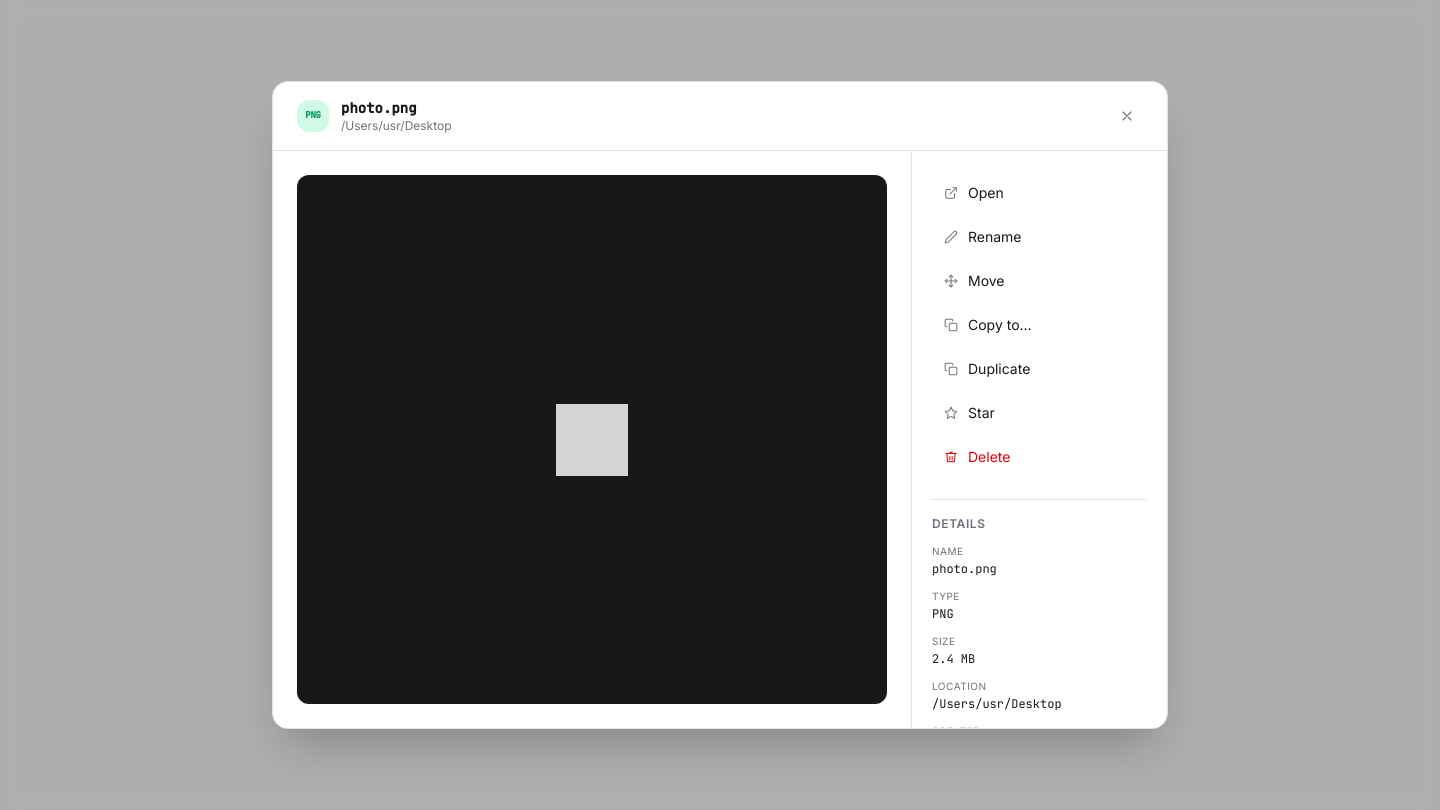
it: FilePreview › keeps the inline rename dialog open and shows the error when the rename fails
Click the button "Rename" at (1040,237), box [932, 219, 1147, 255]
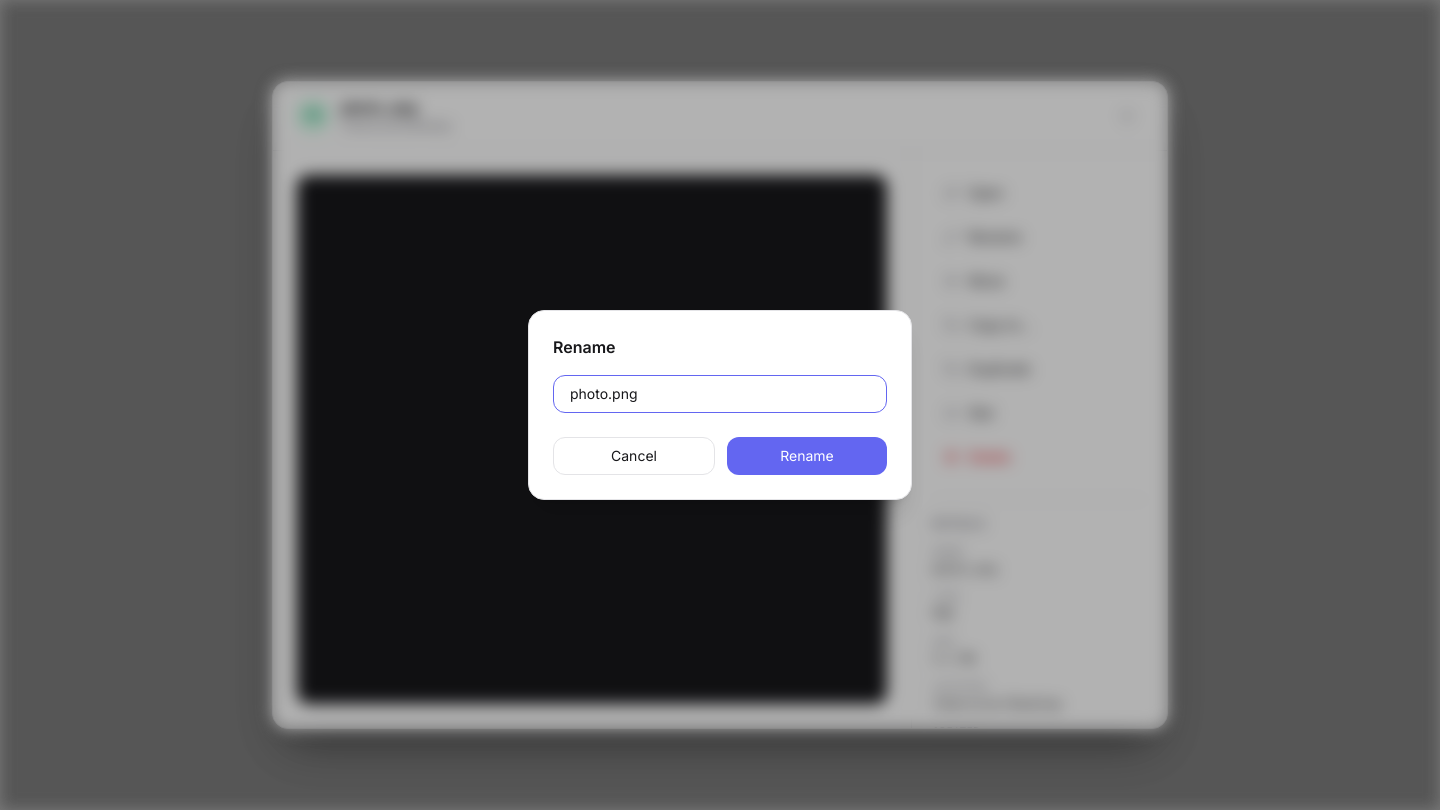
Replace the text in the field showing "photo.png" with "new.png" at (720,394), box [553, 375, 887, 413]
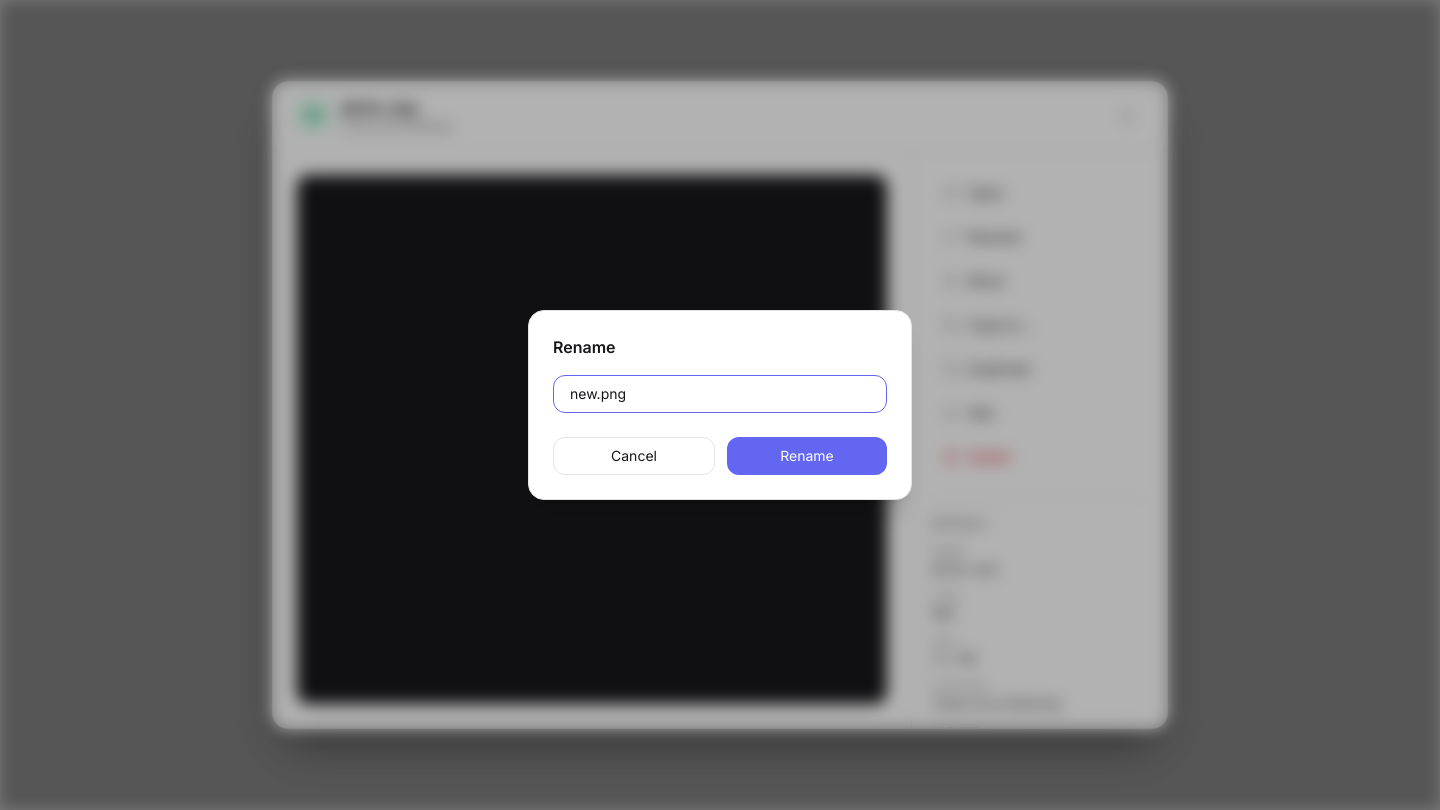
Click the button "Rename" at (807,456), box [727, 437, 887, 475]
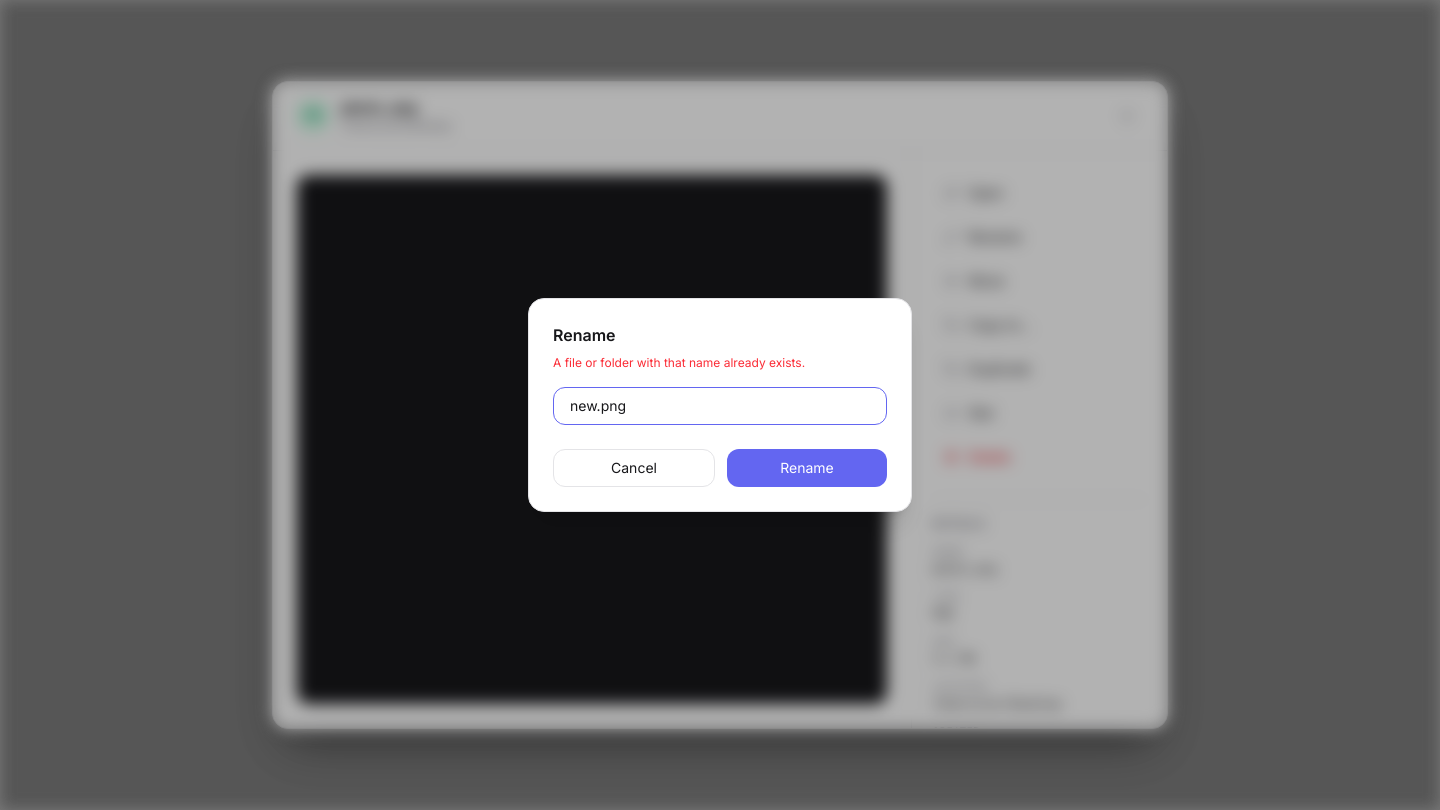
Now the text "A file or folder with that name already exists." is shown, box [553, 355, 805, 370]
